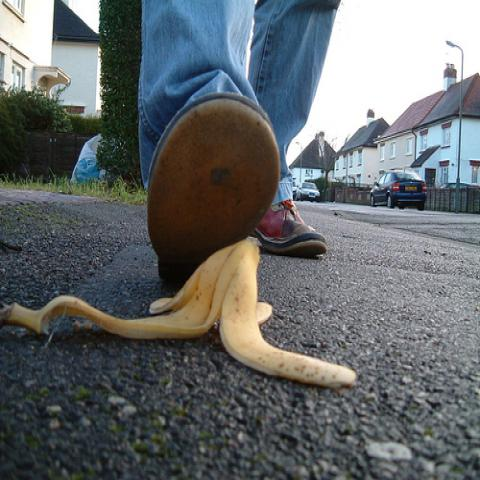car: (369, 169, 427, 210), (295, 182, 321, 203)
